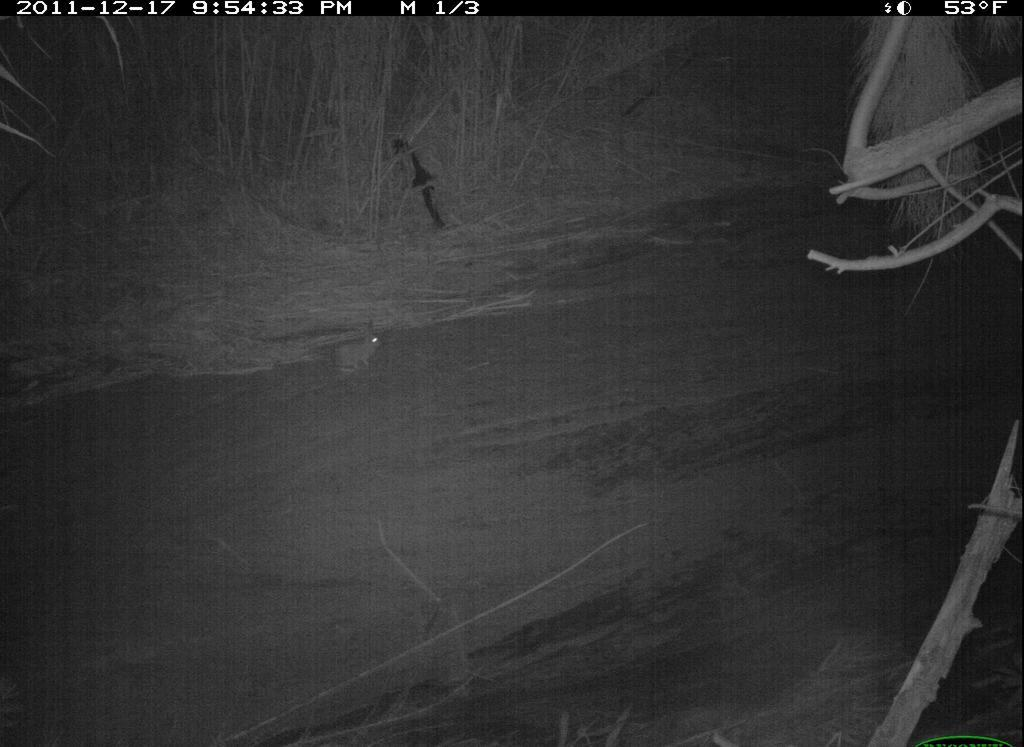rabbit: (329, 317, 391, 381)
